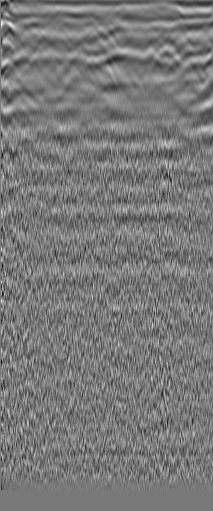오수: (14, 19, 34, 39)
우수: (144, 39, 184, 76)
